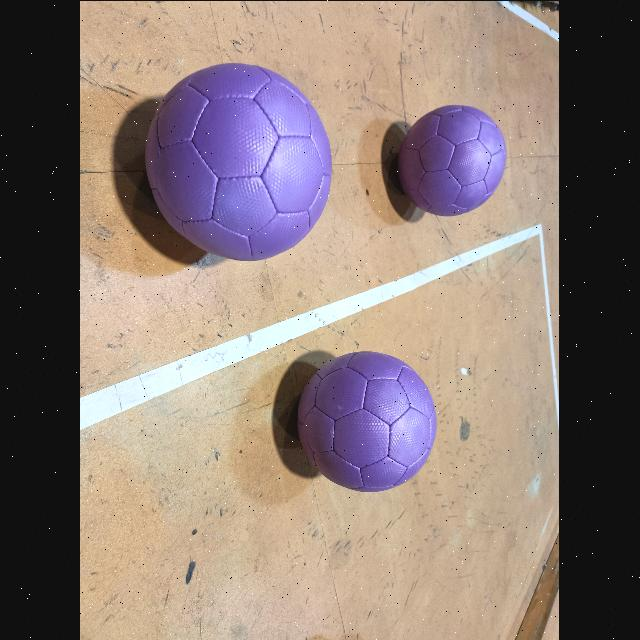P: (146, 63, 332, 260), (297, 350, 438, 490), (398, 104, 508, 216)
